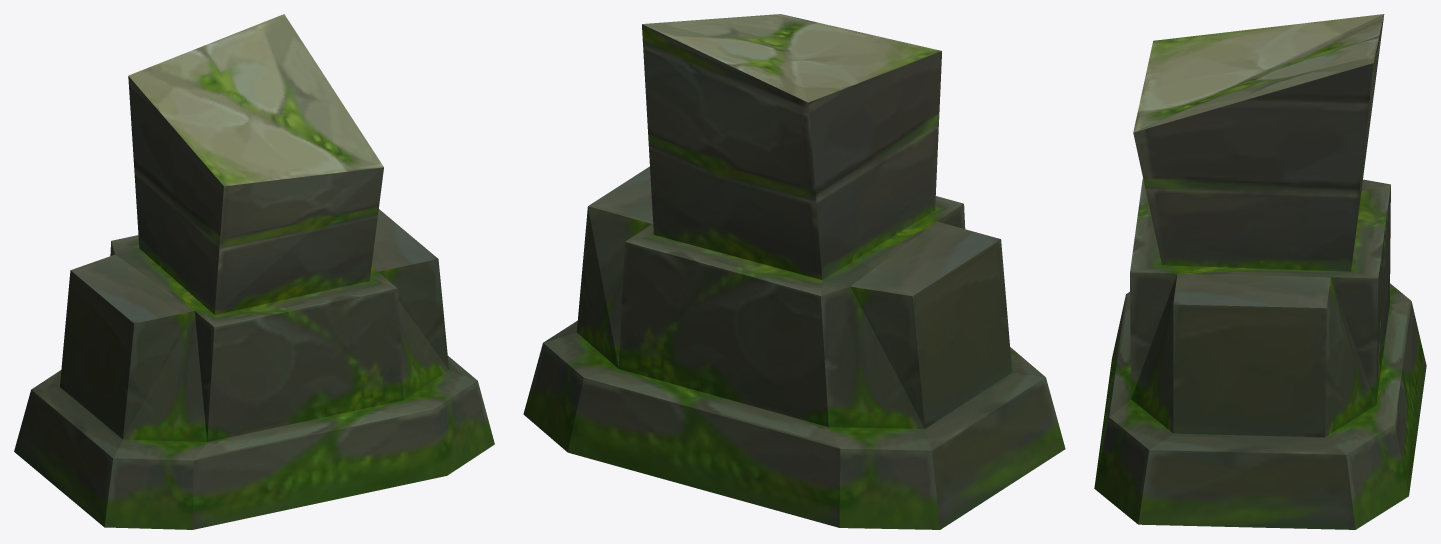
Rendered from fb_lyhg_zj_01_i.FBX.
3 renders of one model, left to right at view 1: azimuth 30°, elevation 25°; view 2: azimuth 150°, elevation 25°; view 3: azimuth 270°, elevation 25°, orthographic. The views are drawn at different scales.
Visible parts, largest first — view 1: Object006; view 2: Object006; view 3: Object006.
Part boxes in pixels (box(x1,y1,x2,y2)): Object006: box(14, 14, 494, 529); Object006: box(523, 14, 1065, 529); Object006: box(1094, 14, 1426, 529).
Size of the model in its own units: 495 by 459 by 339.
